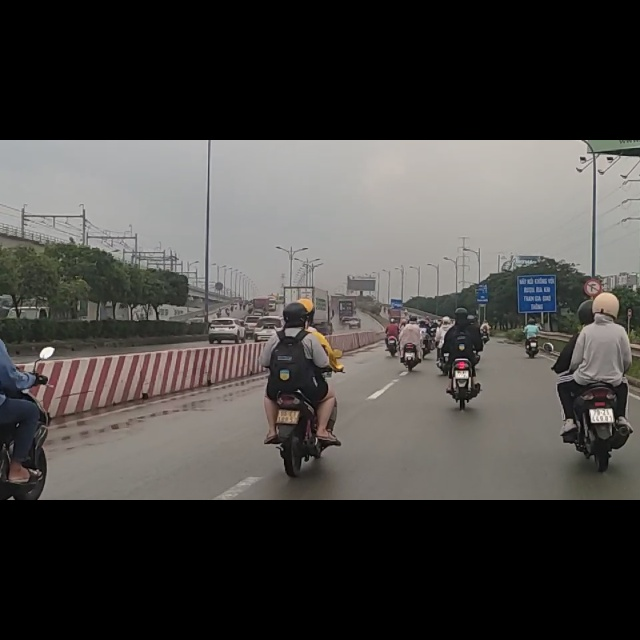bien_chi_dan: (585, 247, 601, 277)
